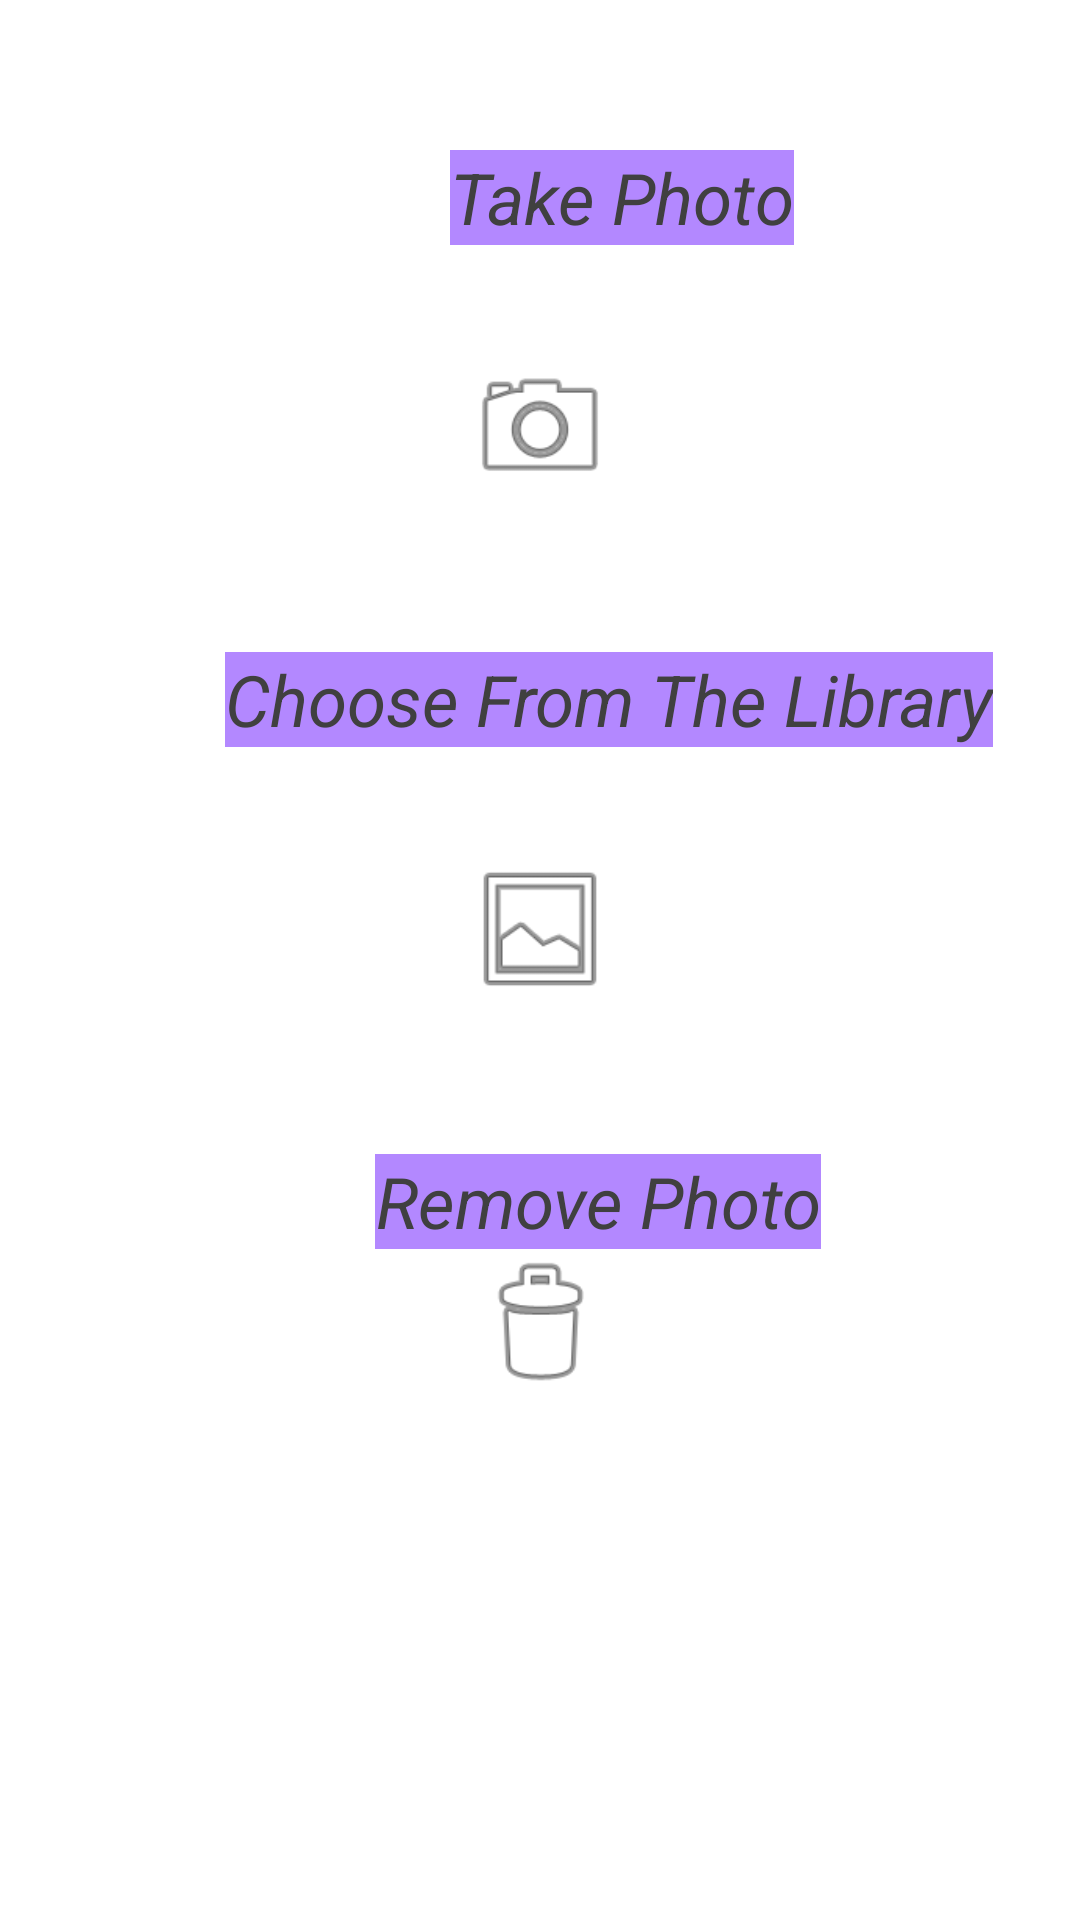

Where to tap for icons on this 1080w x 1920h app screen, as point (x, y):
camera: point (540, 424)
delete: point (540, 1321)
gallery: point (540, 929)
